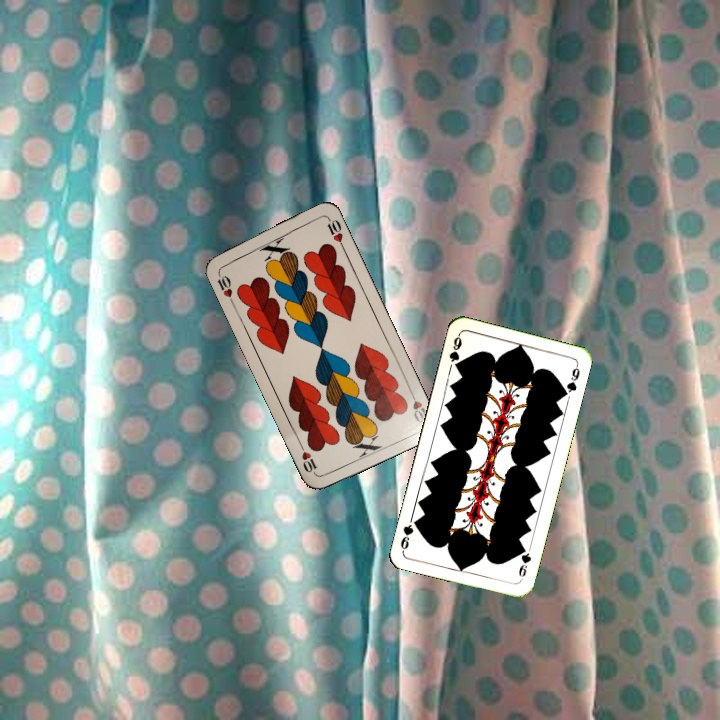G9: (445, 330, 464, 372), (514, 543, 533, 583)
H10: (406, 386, 432, 426), (213, 268, 236, 306)
